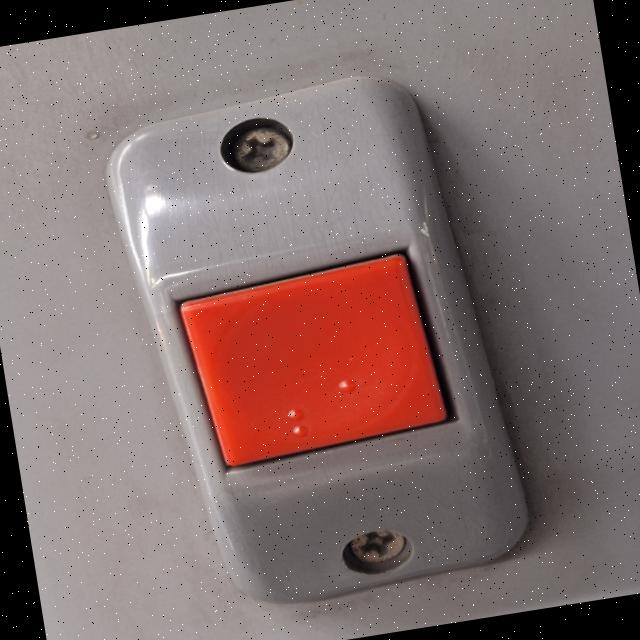Phillips: (209, 114, 312, 182), (336, 522, 430, 586)
